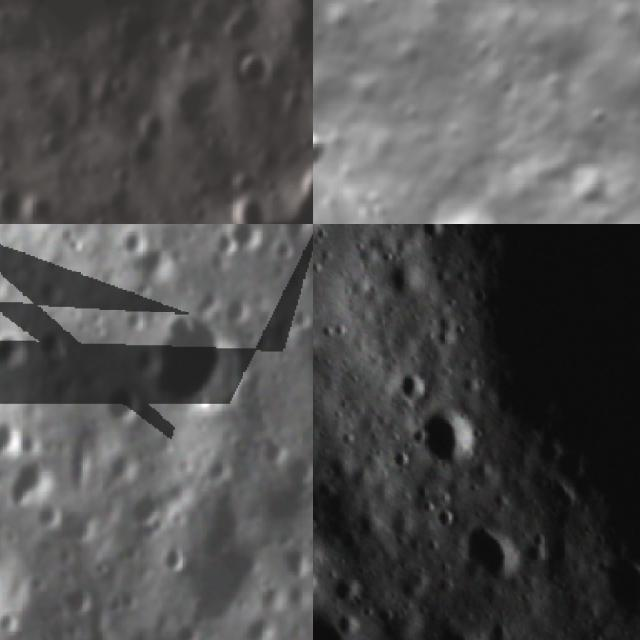crater: (147, 304, 247, 422), (444, 506, 540, 596), (404, 394, 490, 482), (207, 157, 313, 224), (410, 177, 537, 224), (1, 439, 72, 513), (584, 540, 640, 629), (38, 492, 113, 549), (164, 70, 229, 133), (323, 559, 381, 615), (384, 362, 439, 418), (410, 607, 498, 640), (218, 0, 271, 53), (98, 383, 145, 437), (313, 596, 370, 640), (0, 325, 34, 379), (236, 49, 276, 94), (56, 584, 96, 627), (224, 191, 275, 224), (38, 327, 73, 374), (313, 121, 340, 177), (225, 224, 271, 256), (118, 226, 156, 263), (39, 124, 74, 163), (413, 224, 456, 255), (157, 535, 189, 576), (0, 188, 26, 224), (276, 224, 313, 239)
